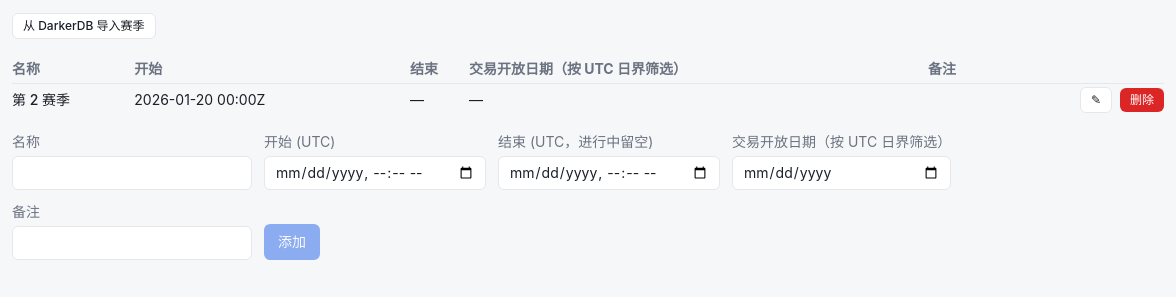
Scenario: SeasonEditor shows server validation error
Type "X" into the field labelled "名称" at (132, 173), box [12,156,252,190]
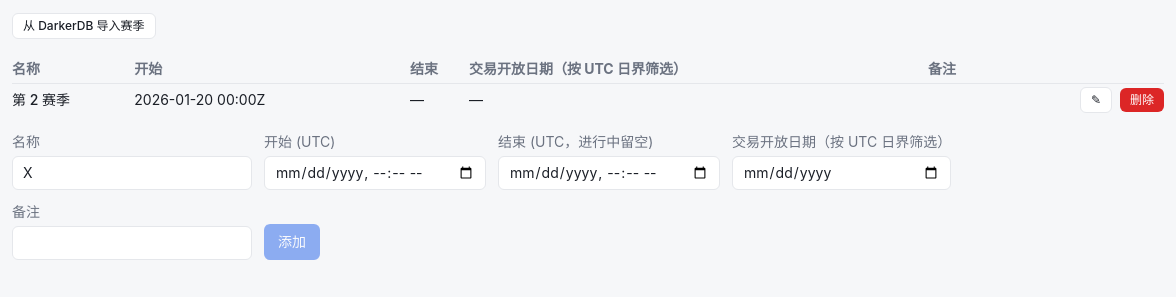
Type "2026-02-01T00:00" into the field labelled "开始 (UTC)" at (375, 173), box [264,156,486,190]
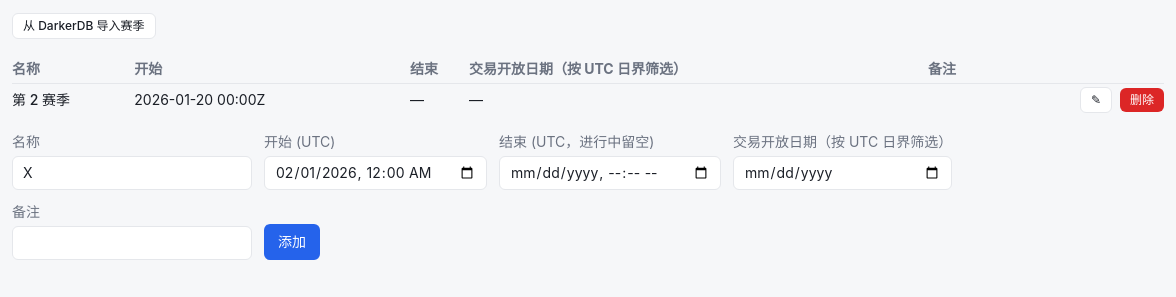
Click the button "添加" at (292, 242), box [264,224,320,260]
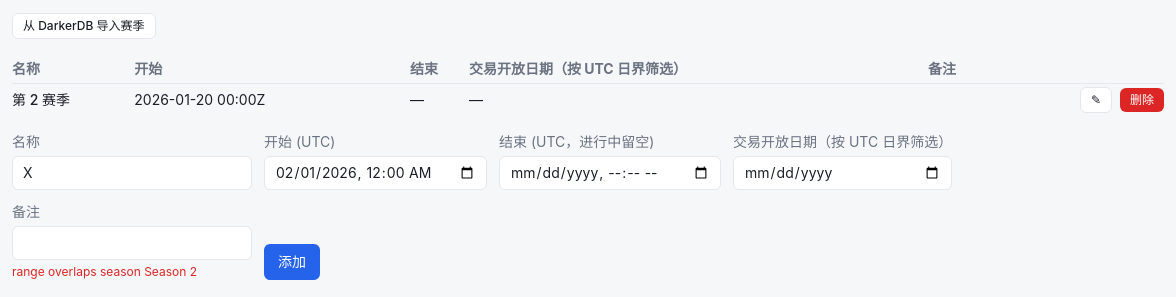
Check: the number of rows is 2, box [12,55,1164,84]; [12,84,1164,116]
Check: the message reads "range overlaps season Season 2", box [12,264,197,279]
